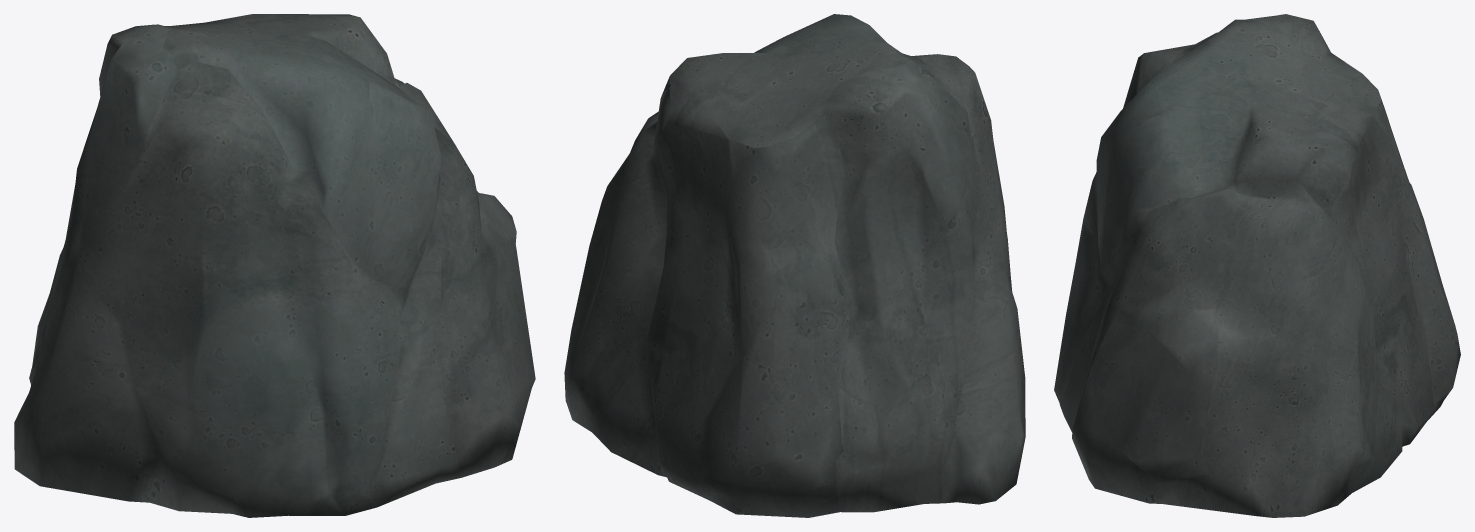
File: Cliff_Wall_Med03.fbx
3 views of the same model, side by side, from view 1: azimuth 30°, elevation 25°; view 2: azimuth 150°, elevation 25°; view 3: azimuth 270°, elevation 25° (orthographic). The views are drawn at different scales.
Visible parts, largest first — view 1: SM_CliffWall_Med03.mo; view 2: SM_CliffWall_Med03.mo; view 3: SM_CliffWall_Med03.mo.
Part boxes in pixels (x1,y1,x2,y2): SM_CliffWall_Med03.mo: [14, 14, 535, 517]; SM_CliffWall_Med03.mo: [564, 14, 1025, 517]; SM_CliffWall_Med03.mo: [1054, 14, 1460, 517].
Bounding box in the file's own units: 1124 × 967 × 988.
1 material, 1 textured.
